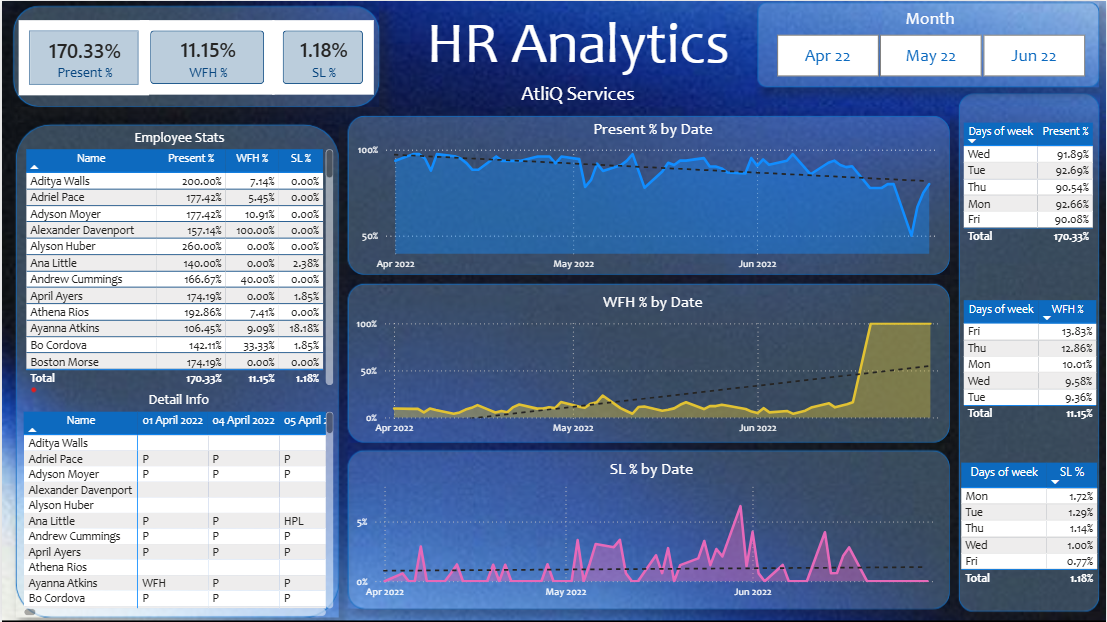

The dashboard page shown, as its layout file describes it:
{"tool":"powerbi","page":{"name":"Page 1","canvas":[1280,720],"ordinal":0},"visuals":[{"type":"cardVisual","fields":{"Data":["Measure Table.Present %"]},"box":[14.7,17.6,161.8,97.1],"z":0},{"type":"slicer","title":"Month","fields":{"Values":["Final Data.Month"]},"box":[873,7,407,87],"z":1000},{"type":"cardVisual","fields":{"Data":["Measure Table.WFH %"]},"box":[155.4,16.9,166.2,96.9],"z":2000},{"type":"cardVisual","fields":{"Data":["Measure Table.SL %"]},"box":[308.5,16.9,127.7,96.9],"z":3000},{"type":"tableEx","title":"Employee Stats","fields":{"Values":["Final Data.Name","Measure Table.Present %","Measure Table.WFH %","Measure Table.SL %"]},"box":[22.1,148.5,367.6,302.9],"z":4000},{"type":"pivotTable","title":"Detail Info","fields":{"Rows":["Final Data.Name"],"Values":["Min(Final Data.Value)"],"Columns":["Final Data.Date"]},"box":[20.6,451.5,369.1,266.2],"z":5000},{"type":"areaChart","fields":{"Y":["Measure Table.Present %"],"Category":["Final Data.Date"]},"box":[407.5,136.2,695,185],"z":6000},{"type":"areaChart","fields":{"Category":["Final Data.Date"],"Y":["Measure Table.WFH %"]},"box":[405.6,337.8,697.8,174.4],"z":7000},{"type":"areaChart","fields":{"Category":["Final Data.Date"],"Y":["Measure Table.SL %"]},"box":[405.6,520,694.4,181.1],"z":8000},{"type":"tableEx","fields":{"Values":["Final Data.Days of week","Measure Table.Present %"]},"box":[1108.2,136.4,167.3,163.6],"z":9000},{"type":"tableEx","fields":{"Values":["Final Data.Days of week","Measure Table.WFH %"]},"box":[1108.2,342.7,167.3,164.5],"z":10000},{"type":"tableEx","fields":{"Values":["Final Data.Days of week","Measure Table.SL %"]},"box":[1105.5,530,171.8,170.9],"z":11000},{"type":"textbox","title":"HR Analytics ","box":[440,7.1,454.3,150],"z":12000}]}

Visuals, with their boxes in screenshot pixels (x1, y1, x2, y2), scaled from the page's 1280x720 canvas onto the 1107x622 screenshot:
cardVisual - Measure Table.Present %: [x1=13, y1=15, x2=153, y2=99]
"Month" slicer: [x1=755, y1=6, x2=1106, y2=81]
cardVisual - Measure Table.WFH %: [x1=134, y1=15, x2=278, y2=98]
cardVisual - Measure Table.SL %: [x1=267, y1=15, x2=377, y2=98]
"Employee Stats" tableEx: [x1=19, y1=128, x2=337, y2=390]
"Detail Info" pivotTable: [x1=18, y1=390, x2=337, y2=620]
areaChart - Measure Table.Present % x Final Data.Date: [x1=352, y1=118, x2=953, y2=277]
areaChart - Final Data.Date x Measure Table.WFH %: [x1=351, y1=292, x2=954, y2=442]
areaChart - Final Data.Date x Measure Table.SL %: [x1=351, y1=449, x2=951, y2=606]
tableEx - Final Data.Days of week x Measure Table.Present %: [x1=958, y1=118, x2=1103, y2=259]
tableEx - Final Data.Days of week x Measure Table.WFH %: [x1=958, y1=296, x2=1103, y2=438]
tableEx - Final Data.Days of week x Measure Table.SL %: [x1=956, y1=458, x2=1105, y2=605]
"HR Analytics " textbox: [x1=381, y1=6, x2=773, y2=136]
